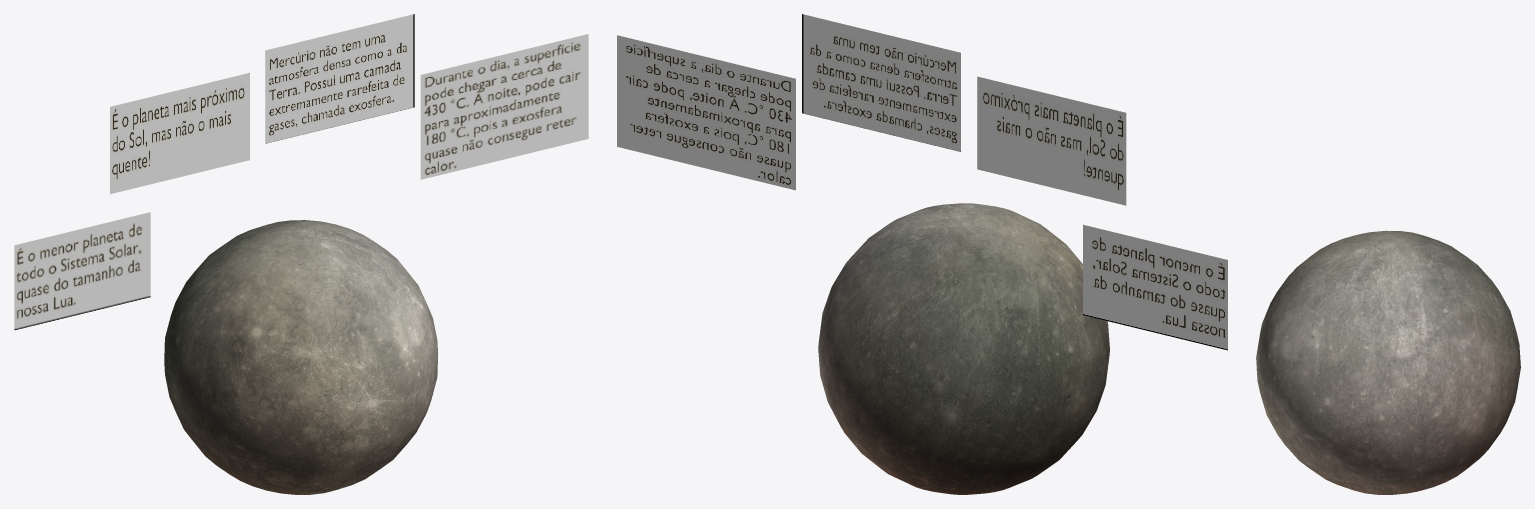
Rendered from mercurio.glb.
3 views of the same model, side by side, from view 1: azimuth 30°, elevation 25°; view 2: azimuth 150°, elevation 25°; view 3: azimuth 270°, elevation 25° (orthographic). The views are drawn at different scales.
Parts seen in each view (by area): view 1: Terra.004, Plane.022, Plane.021, Plane.020, Plane.023; view 2: Terra.004, Plane.022, Plane.021, Plane.020, Plane.023; view 3: Terra.004.
Boxes of the visible parts, left/top/right/bottom form: Terra.004: left=164, top=220, right=437, bottom=494; Plane.022: left=420, top=34, right=588, bottom=179; Plane.021: left=265, top=14, right=414, bottom=143; Plane.020: left=110, top=73, right=249, bottom=194; Plane.023: left=14, top=212, right=150, bottom=330; Terra.004: left=818, top=203, right=1109, bottom=494; Plane.022: left=617, top=35, right=795, bottom=190; Plane.021: left=802, top=14, right=960, bottom=151; Plane.020: left=977, top=76, right=1126, bottom=205; Plane.023: left=1083, top=224, right=1227, bottom=350; Terra.004: left=1256, top=230, right=1520, bottom=494.
Bounding box in the file's own units: 3.14 × 2.2 × 1.3.
Materials: 2 (2 with a texture image).
